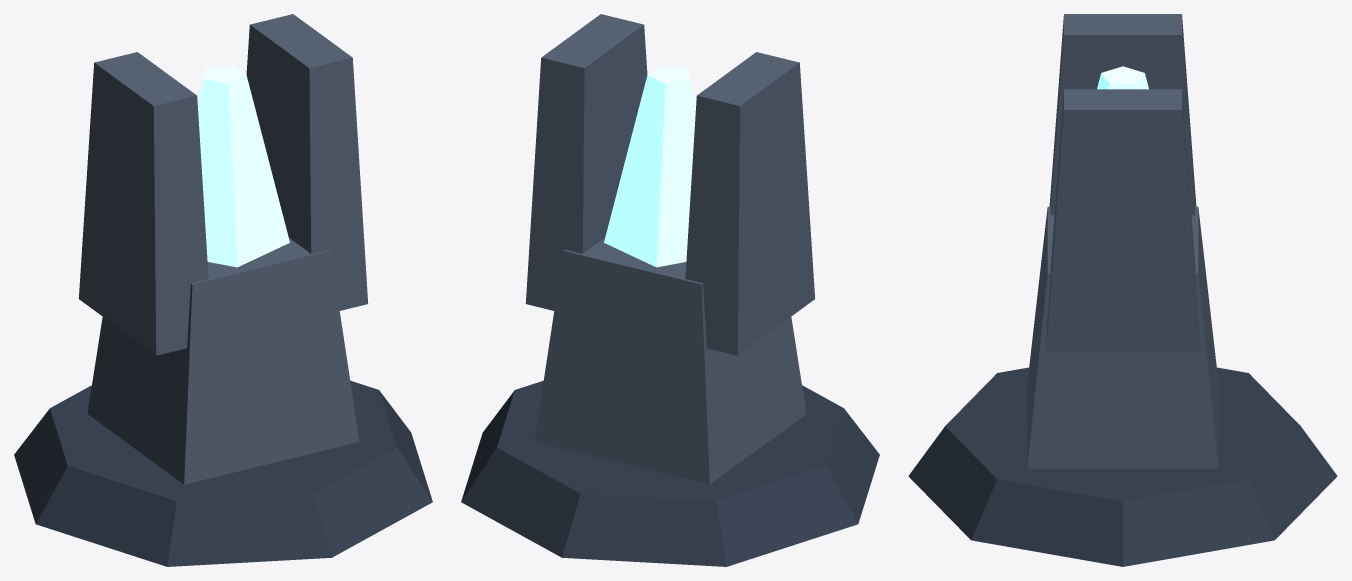
The model's file is CoreDevice.glb.
3 renders of one model, left to right at view 1: azimuth 30°, elevation 25°; view 2: azimuth 150°, elevation 25°; view 3: azimuth 270°, elevation 25°, orthographic.
Visible parts, largest first — view 1: SM_BOSS_CoreDevice; view 2: SM_BOSS_CoreDevice; view 3: SM_BOSS_CoreDevice.
Part boxes in pixels (x1,y1,x2,y2): SM_BOSS_CoreDevice: (14,14,432,566); SM_BOSS_CoreDevice: (461,14,879,566); SM_BOSS_CoreDevice: (908,14,1337,566).
Size of the model in its own units: 1.4 by 1.49 by 1.4.
